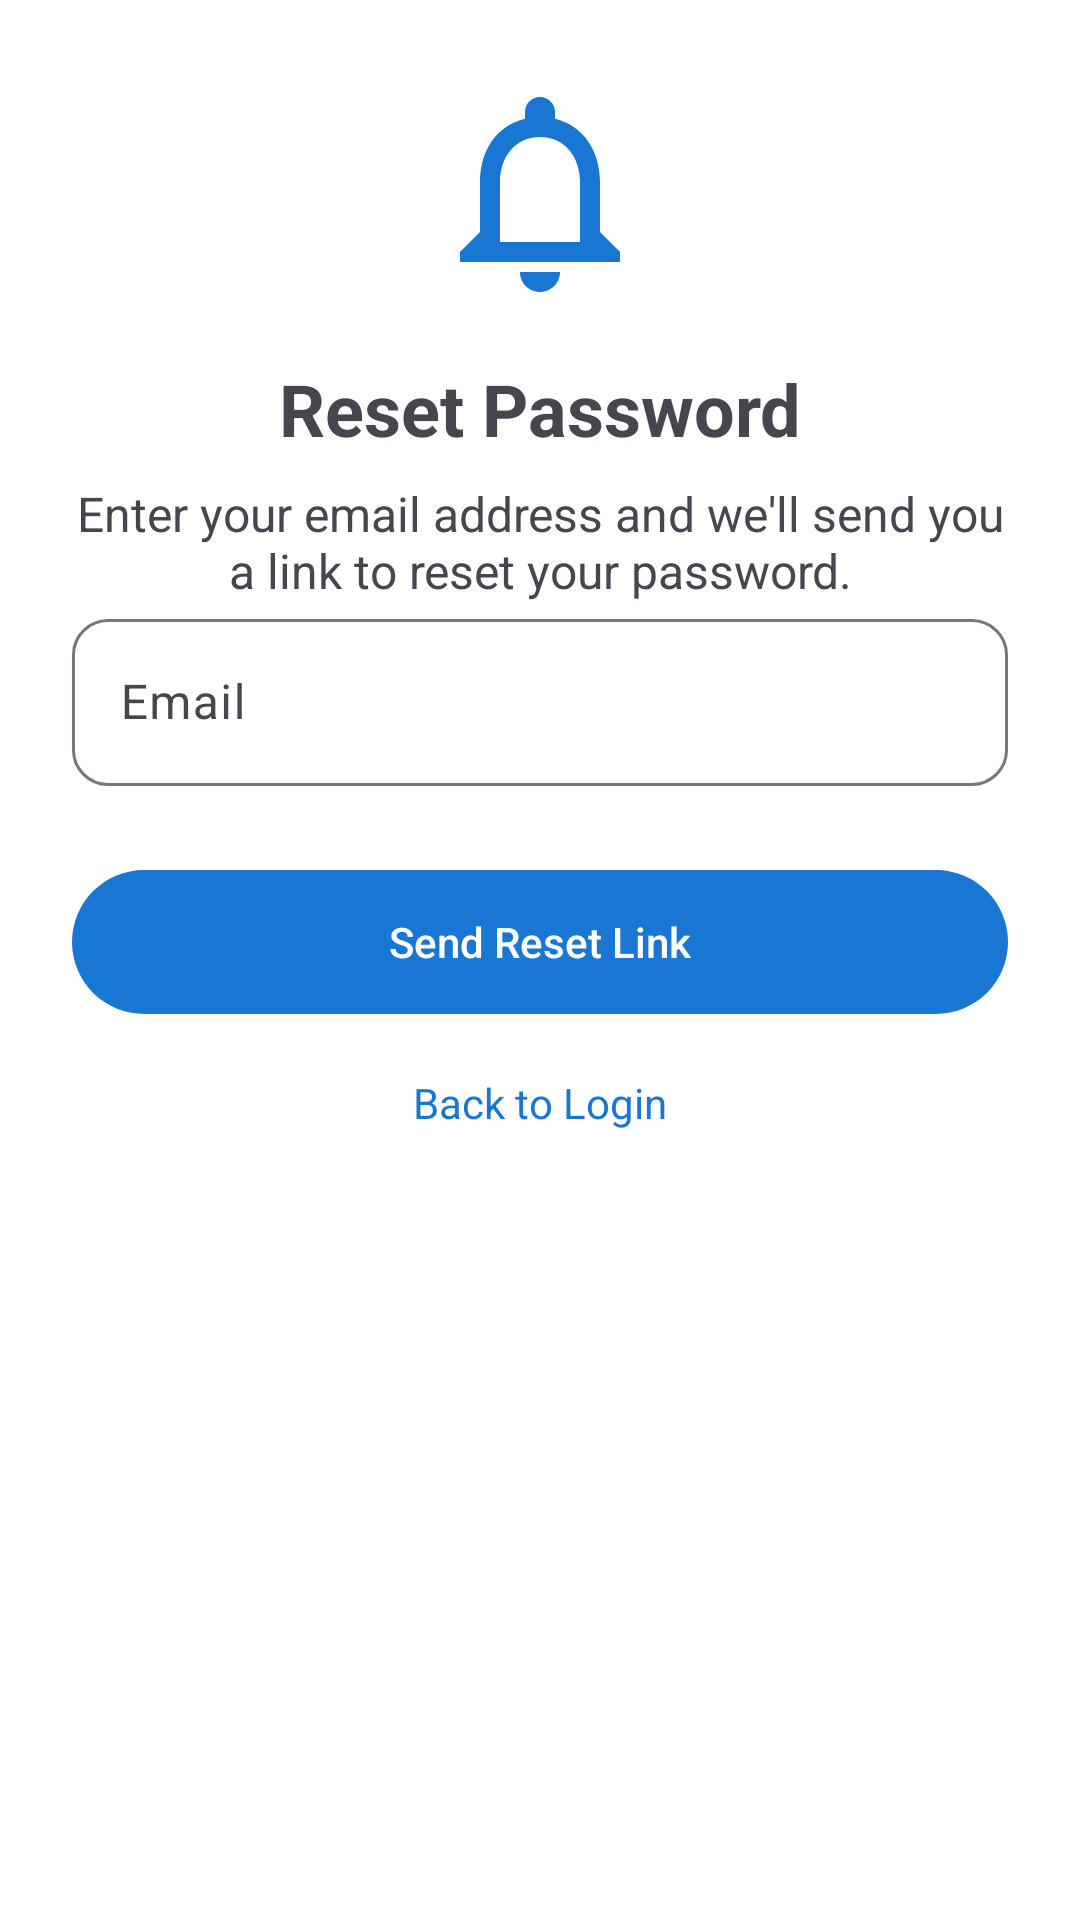

Icons on this 1080×1920 Android screen, each with the point to tap as [x,y]:
notification: [540,194]
